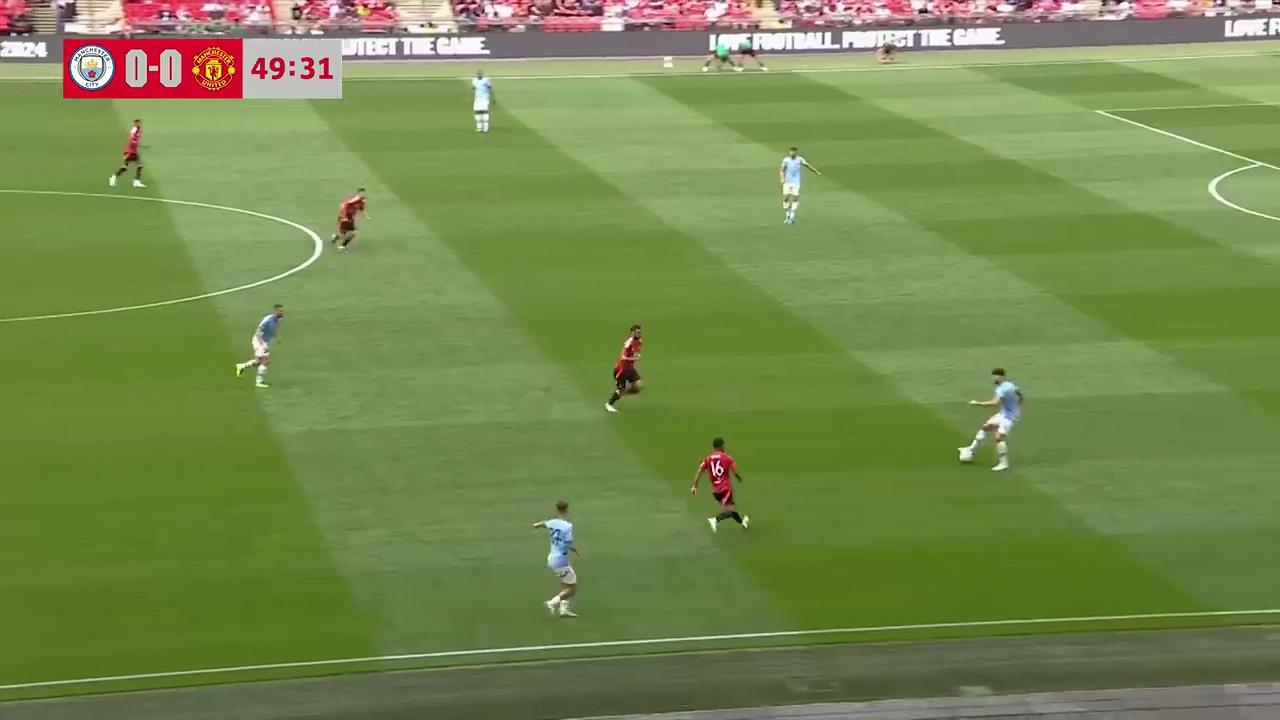ball: (955, 444, 974, 463)
player: (958, 367, 1024, 471), (690, 436, 751, 533), (533, 499, 582, 618), (234, 304, 285, 388), (605, 324, 643, 411), (779, 146, 819, 225), (109, 118, 147, 188), (331, 188, 369, 252), (471, 70, 494, 133)
